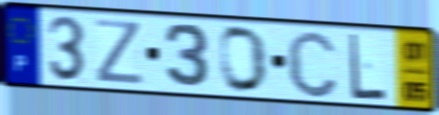3: (161, 22, 212, 91), (47, 13, 90, 84)
C: (285, 27, 340, 100)
L: (347, 31, 388, 102)
O: (218, 23, 270, 95)
Z: (93, 17, 147, 87)
